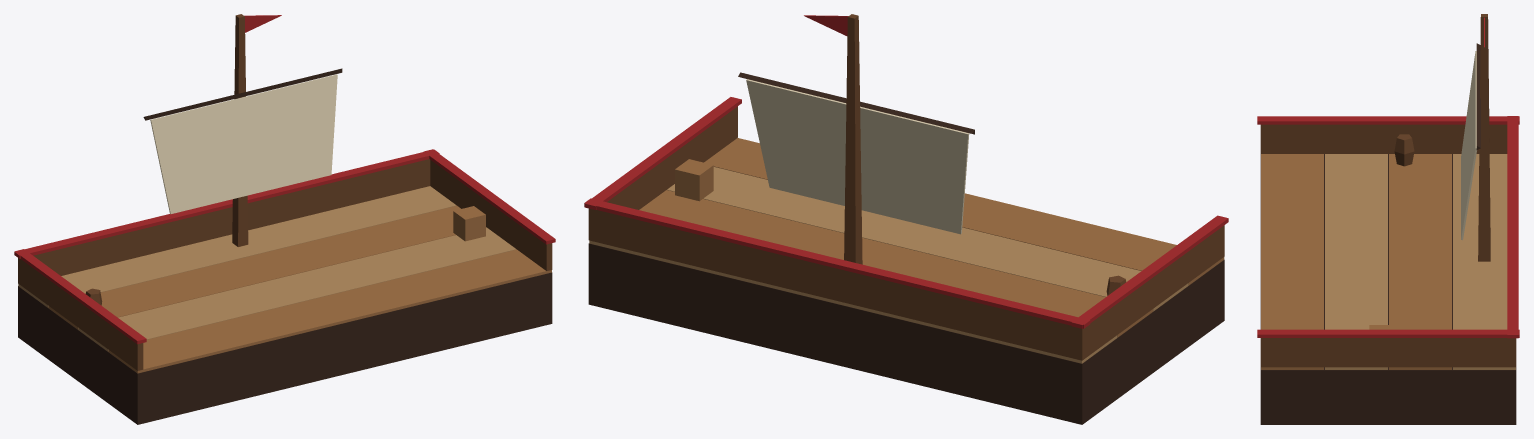
File: SM_Env_BoardingDeck_LQ.glb
3 renders of one model, left to right at view 1: azimuth 30°, elevation 25°; view 2: azimuth 150°, elevation 25°; view 3: azimuth 270°, elevation 25°, orthographic. The views are drawn at different scales.
Parts seen in each view (by area): view 1: SM_Env_BoardingDeck_LQ; view 2: SM_Env_BoardingDeck_LQ; view 3: SM_Env_BoardingDeck_LQ.
Part boxes in pixels (x1,y1,x2,y2): SM_Env_BoardingDeck_LQ: (14,14,555,424); SM_Env_BoardingDeck_LQ: (584,14,1228,424); SM_Env_BoardingDeck_LQ: (1257,14,1519,424).
Bounding box in the file's own units: 16.2 × 10.39 × 8.2.
Materials: 1 (1 with a texture image).
